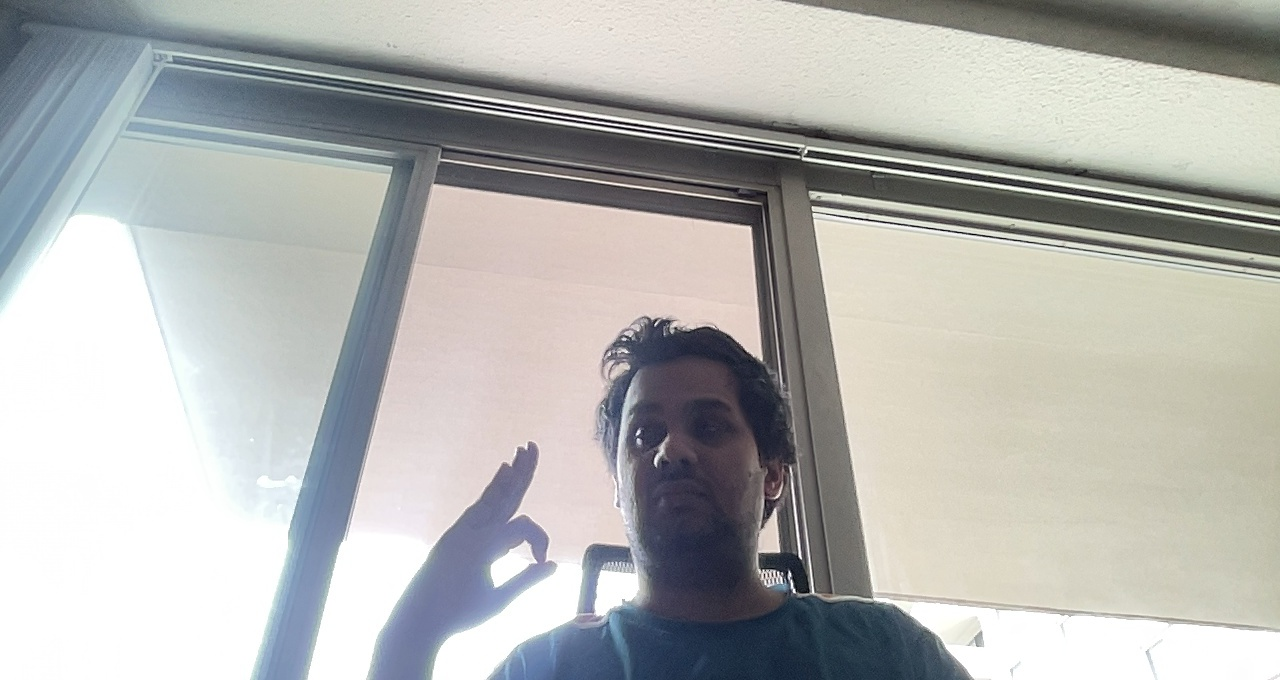ok: (422, 438, 565, 625)
